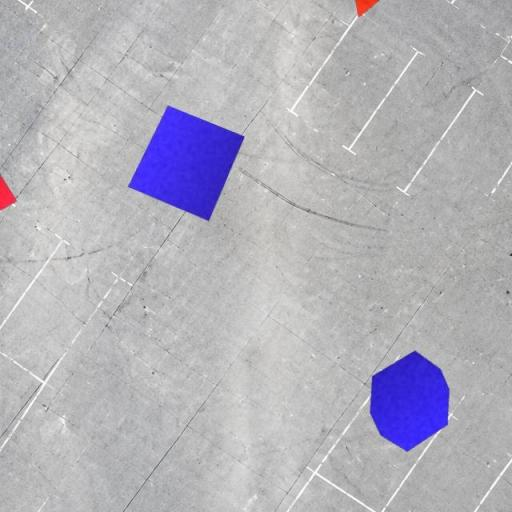BLUE_SQUARE: (127, 104, 245, 222)
RED_SQUARE: (0, 161, 18, 224)
